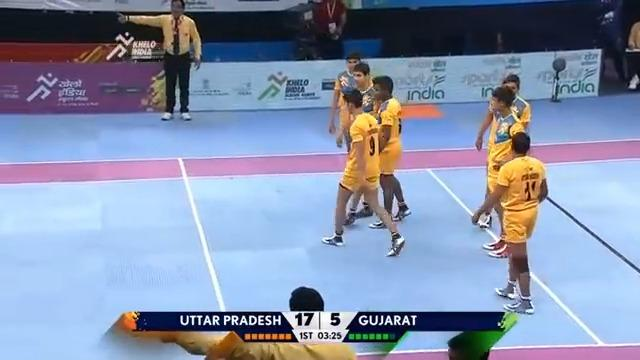Player: (471, 131, 548, 315), (321, 89, 405, 256), (472, 73, 531, 258)
referee: (116, 0, 202, 121), (298, 0, 347, 59)
